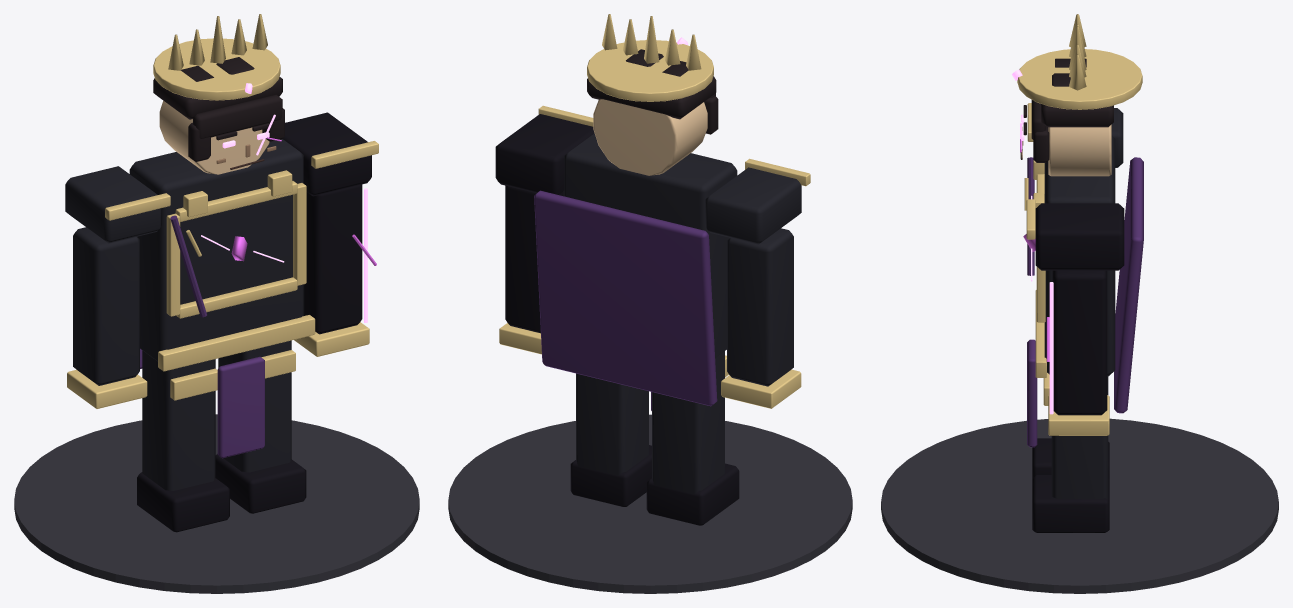
The model's file is crownbound_challenger_v5_face_pass.fbx.
3 views of the same model, side by side, from view 1: azimuth 30°, elevation 25°; view 2: azimuth 150°, elevation 25°; view 3: azimuth 270°, elevation 25° (orthographic).
Visible parts, largest first — view 1: Preview_Base_Disc, Torso, Left Arm, Left Leg, Right Arm, Accessory_Shoulder_L, Accessory_Crown_Circlet, Accessory_RoyalWaistCloth, Accessory_Shoulder_R_Corrupted, Right Leg, Accessory_Boot_L, Accessory_Boot_R (+18 smaller); view 2: Preview_Base_Disc, Accessory_ShortRoyalCape, Torso, Left Arm, Left Leg, Right Leg, Head, Accessory_Shoulder_L, Accessory_Shoulder_R_Corrupted, Accessory_Crown_Circlet, Right Arm, Accessory_Boot_L (+5 smaller); view 3: Preview_Base_Disc, Right Arm, Accessory_Shoulder_R_Corrupted, Accessory_Crown_Circlet, Accessory_ShortRoyalCape, Right Leg, Torso, Head, Accessory_Boot_R, Accessory_Hair_ShadowCap, Accessory_WristGold_R, Accessory_RoyalWaistCloth (+6 smaller).
Part boxes in pixels (bbox=[...]): Preview_Base_Disc: bbox=[14, 414, 419, 593]; Torso: bbox=[129, 139, 304, 361]; Left Arm: bbox=[73, 227, 139, 385]; Left Leg: bbox=[142, 350, 215, 490]; Right Arm: bbox=[304, 184, 362, 334]; Accessory_Shoulder_L: bbox=[65, 166, 161, 243]; Accessory_Crown_Circlet: bbox=[153, 38, 280, 100]; Accessory_RoyalWaistCloth: bbox=[217, 356, 264, 458]; Accessory_Shoulder_R_Corrupted: bbox=[282, 112, 371, 196]; Right Leg: bbox=[218, 340, 291, 472]; Accessory_Boot_L: bbox=[137, 472, 229, 532]; Accessory_Boot_R: bbox=[215, 454, 306, 513]; Preview_Base_Disc: bbox=[448, 414, 852, 593]; Accessory_ShortRoyalCape: bbox=[534, 190, 717, 406]; Torso: bbox=[563, 133, 737, 357]; Left Arm: bbox=[727, 228, 793, 386]; Left Leg: bbox=[652, 351, 724, 494]; Right Leg: bbox=[576, 373, 648, 475]; Head: bbox=[593, 99, 707, 175]; Accessory_Shoulder_L: bbox=[705, 167, 801, 244]; Accessory_Shoulder_R_Corrupted: bbox=[495, 114, 594, 194]; Accessory_Crown_Circlet: bbox=[587, 40, 713, 101]; Right Arm: bbox=[505, 185, 563, 333]; Accessory_Boot_L: bbox=[646, 463, 739, 525]; Preview_Base_Disc: bbox=[881, 418, 1278, 593]; Right Arm: bbox=[1052, 270, 1107, 415]; Accessory_Shoulder_R_Corrupted: bbox=[1035, 203, 1124, 270]; Accessory_Crown_Circlet: bbox=[1017, 49, 1142, 109]; Accessory_ShortRoyalCape: bbox=[1114, 157, 1143, 413]; Right Leg: bbox=[1051, 376, 1108, 499]; Torso: bbox=[1044, 136, 1115, 376]; Head: bbox=[1048, 124, 1111, 176]; Accessory_Boot_R: bbox=[1032, 475, 1109, 532]; Accessory_Hair_ShadowCap: bbox=[1041, 104, 1113, 127]; Accessory_WristGold_R: bbox=[1048, 395, 1109, 435]; Accessory_RoyalWaistCloth: bbox=[1027, 339, 1037, 447].
Bounding box in the file's own units: 350 × 469 × 350.
